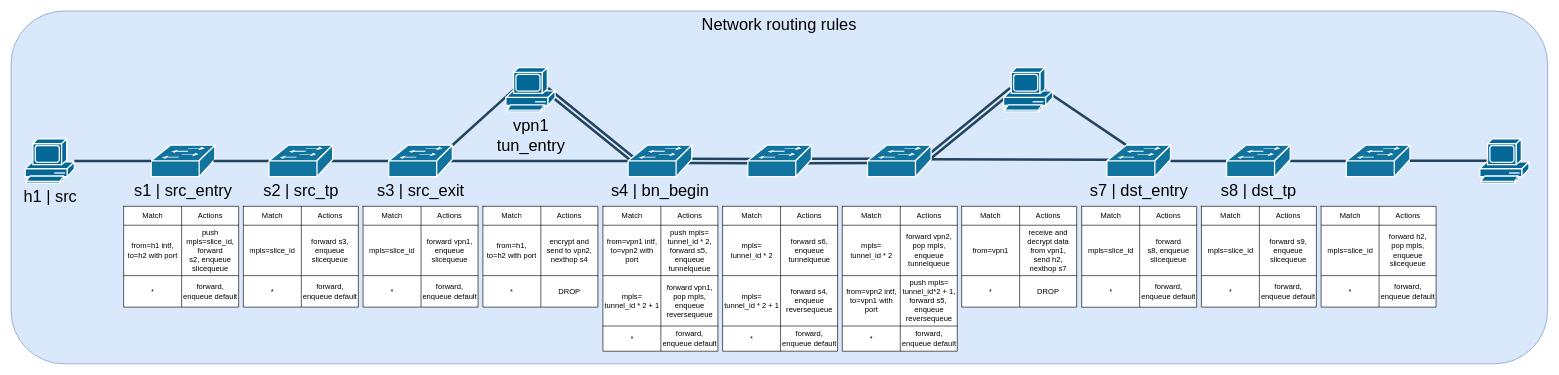
The diagram is 1559 pixels wide and 375 high, and some of its shapes have lost their labels. The box of each missing label's shape, as (x1, y1, x2, y2) in pixels:
h2 | dst: (1479, 138, 1529, 183)
s5 | bn_tp: (747, 144, 812, 177)
s6 | bn_end: (867, 144, 931, 177)
s9 | dst_exit: (1345, 144, 1410, 177)
vpn2 tun_exit: (1003, 67, 1053, 112)
